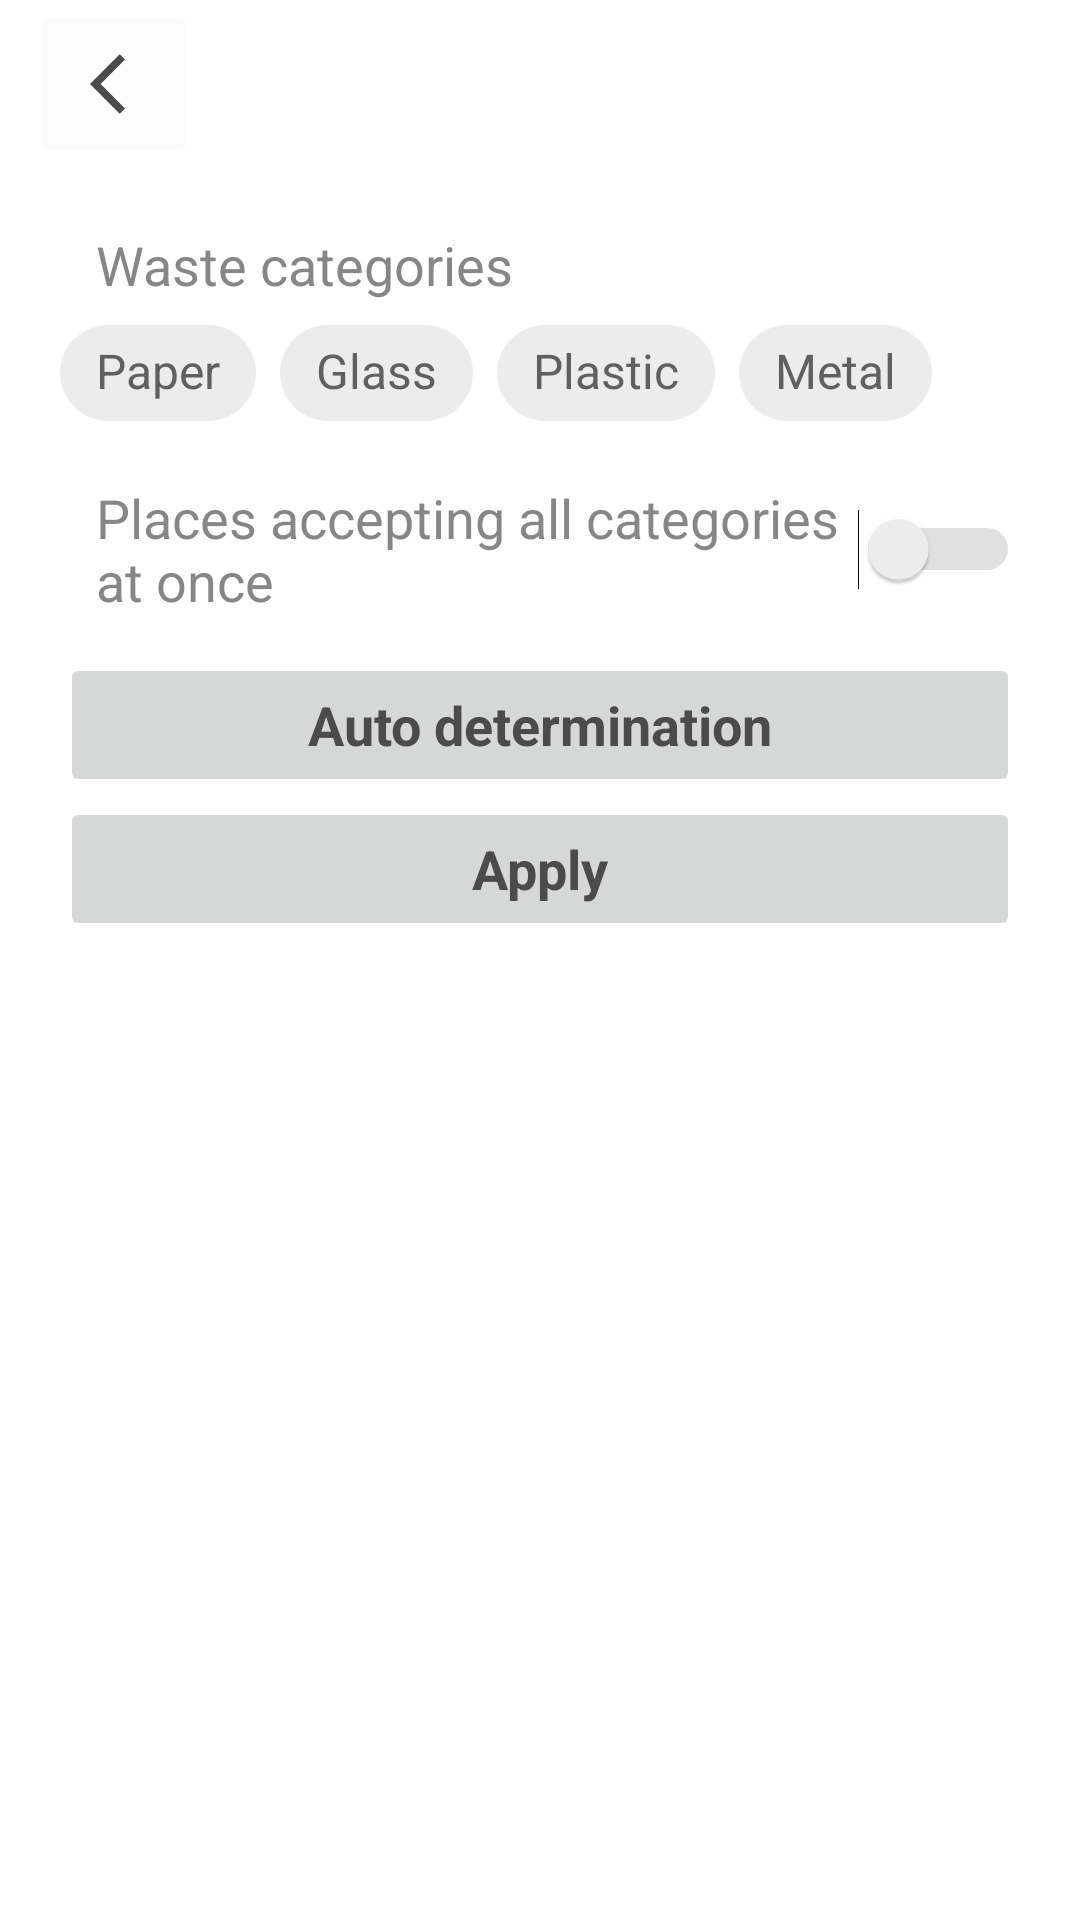

Screen size 1080×1920. Icon name, then its center in pixels as (x=x, y=y):
arrow back: (x=107, y=84)
